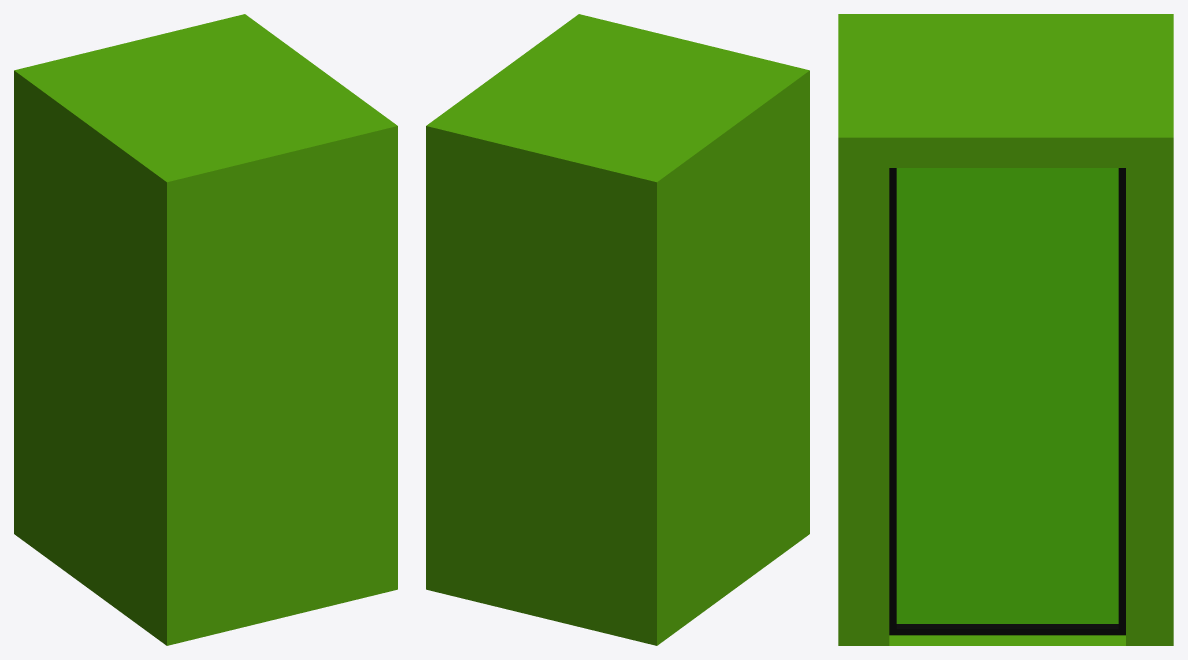
The model's file is puertas minijuego ama.fbx.
3 views of the same model, side by side, from view 1: azimuth 30°, elevation 25°; view 2: azimuth 150°, elevation 25°; view 3: azimuth 270°, elevation 25° (orthographic). The views are drawn at different scales.
Parts seen in each view (by area): view 1: Cube, Cube.001; view 2: Cube, Cube.001; view 3: Cube, Cube.001.
Boxes of the visible parts, x1=… form: Cube: x1=14, y1=14, x2=397, y2=645; Cube.001: x1=35, y1=114, x2=143, y2=628; Cube: x1=426, y1=14, x2=809, y2=645; Cube.001: x1=678, y1=115, x2=786, y2=629; Cube: x1=838, y1=14, x2=1173, y2=645; Cube.001: x1=896, y1=168, x2=1118, y2=623.
Bounding box in the file's own units: 200 × 384 × 229.
